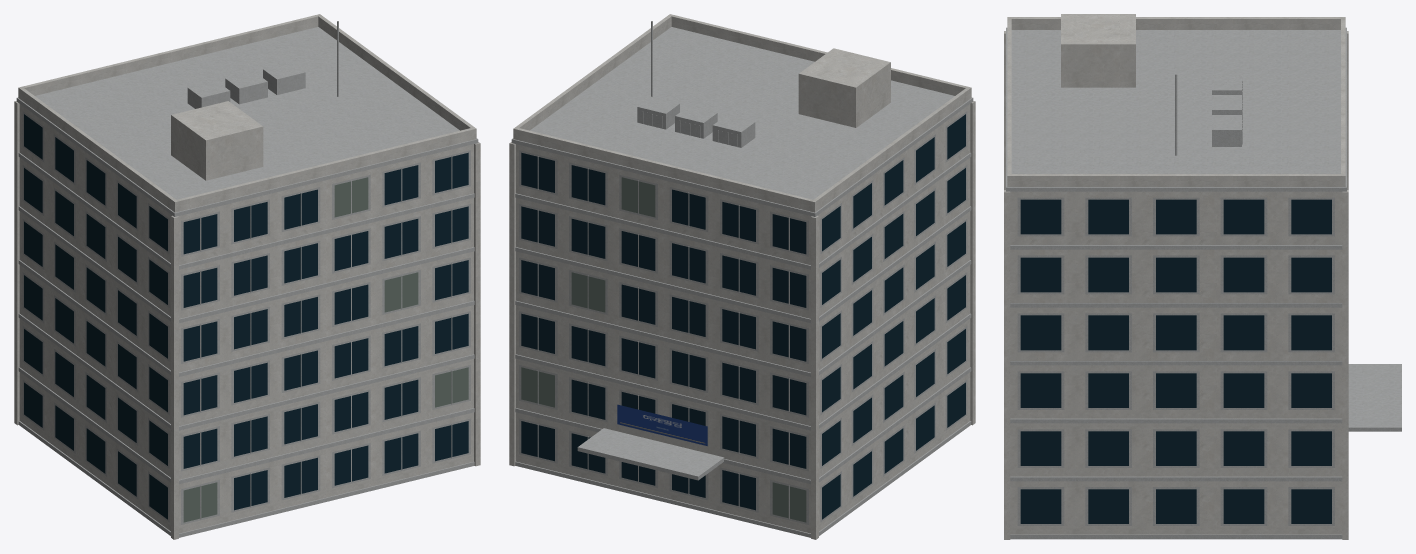
The model's file is office_midrise.obj.
3 renders of one model, left to right at view 1: azimuth 30°, elevation 25°; view 2: azimuth 150°, elevation 25°; view 3: azimuth 270°, elevation 25°, orthographic. The views are drawn at different scales.
Visible parts, largest first — view 1: Concrete, Dark_Frame, Window_Glass, Warm_Plaster, Window_Light, AC_White; view 2: Concrete, Dark_Frame, Window_Glass, Warm_Plaster, Window_Light, Metal_Silver, AC_White, Sign_Atlas; view 3: Dark_Frame, Concrete, Window_Glass, Warm_Plaster, Metal_Silver, AC_White.
Boxes of the visible parts, bbox=[...] form: Concrete: bbox=[18, 14, 476, 533]; Dark_Frame: bbox=[16, 27, 478, 537]; Window_Glass: bbox=[24, 114, 468, 519]; Warm_Plaster: bbox=[14, 101, 480, 539]; Window_Light: bbox=[183, 177, 468, 522]; AC_White: bbox=[187, 62, 305, 108]; Concrete: bbox=[513, 14, 971, 533]; Dark_Frame: bbox=[511, 27, 973, 537]; Window_Glass: bbox=[521, 114, 965, 519]; Warm_Plaster: bbox=[509, 48, 975, 539]; Window_Light: bbox=[521, 177, 806, 522]; Metal_Silver: bbox=[577, 21, 724, 480]; AC_White: bbox=[637, 96, 755, 147]; Sign_Atlas: bbox=[617, 404, 707, 445]; Dark_Frame: bbox=[1006, 27, 1346, 539]; Concrete: bbox=[1007, 17, 1345, 534]; Window_Glass: bbox=[1020, 199, 1331, 523]; Warm_Plaster: bbox=[1004, 14, 1348, 539]; Metal_Silver: bbox=[1175, 73, 1401, 431]; AC_White: bbox=[1212, 75, 1241, 146].
Bounding box in the file's own units: 20.33 × 25.4 × 21.16.
